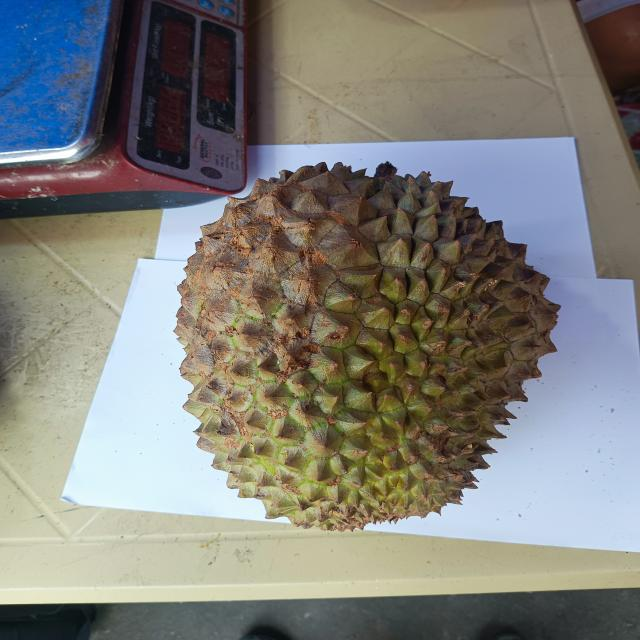mature: (176, 163, 560, 531)
